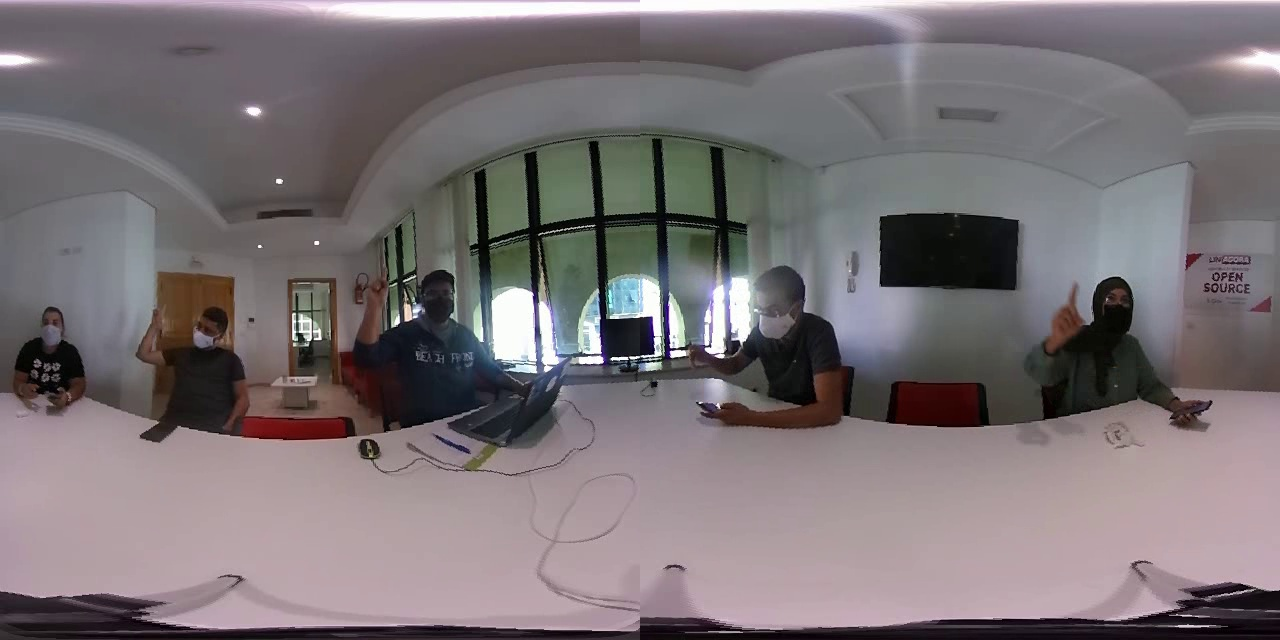person: (681, 255, 851, 437), (346, 245, 506, 425), (1024, 254, 1167, 425), (128, 285, 259, 442), (7, 288, 96, 418)
speaking: (1033, 272, 1089, 383), (352, 257, 398, 372), (134, 299, 173, 372)
